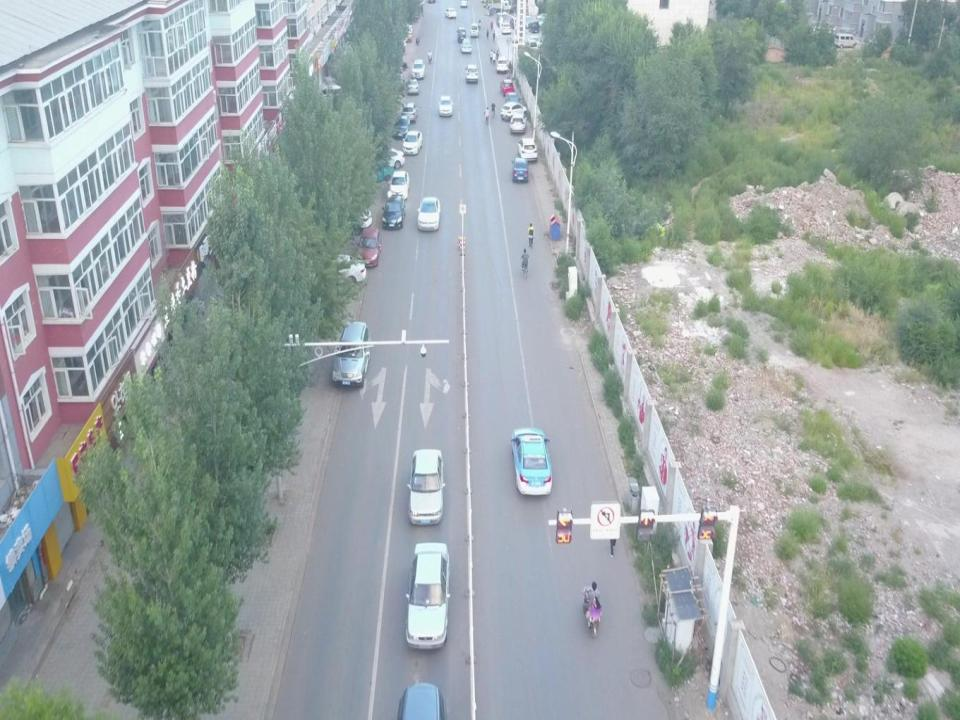car: (404, 543, 450, 649), (510, 427, 553, 495), (408, 449, 446, 525), (332, 321, 370, 389), (301, 254, 366, 285), (356, 228, 382, 267), (363, 148, 405, 168), (382, 196, 406, 229), (416, 197, 440, 229), (389, 172, 409, 202), (402, 131, 422, 155), (511, 158, 529, 184), (517, 138, 537, 161), (500, 103, 528, 118), (393, 116, 410, 138), (509, 113, 526, 134), (401, 102, 418, 122), (438, 96, 454, 116), (505, 92, 522, 110), (411, 59, 425, 79), (499, 80, 514, 97), (465, 65, 478, 84), (496, 56, 509, 74), (407, 79, 419, 95), (461, 38, 471, 54), (445, 7, 456, 18), (500, 22, 510, 34), (460, 0, 467, 8)
truck: (457, 27, 466, 44)
van: (496, 12, 505, 27), (470, 22, 478, 38)
